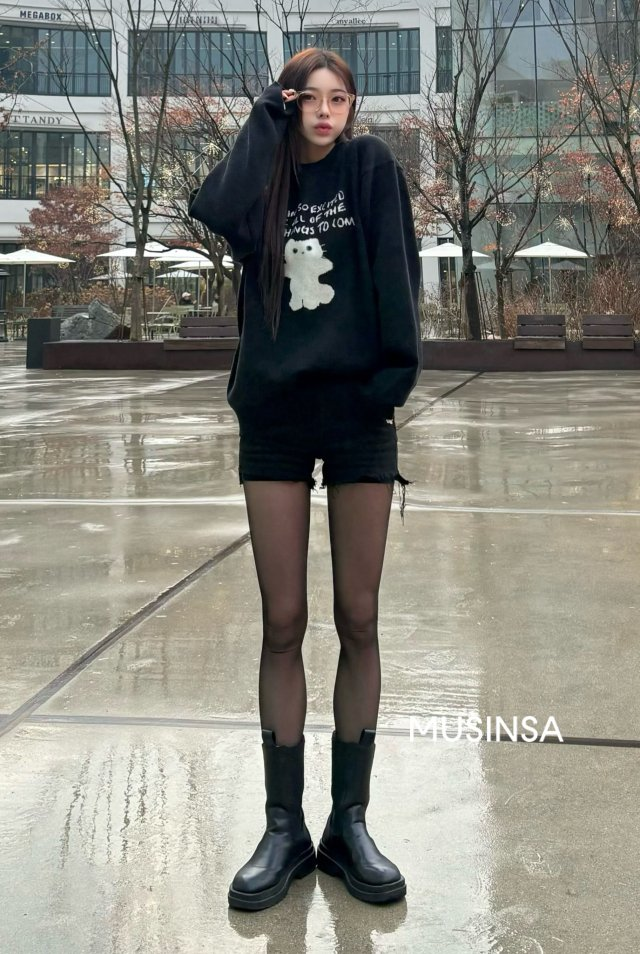Boots: (223, 724, 420, 916)
Glasses: (289, 89, 358, 112)
Shorts: (226, 404, 416, 490)
Sweatshirt: (197, 134, 430, 397)
